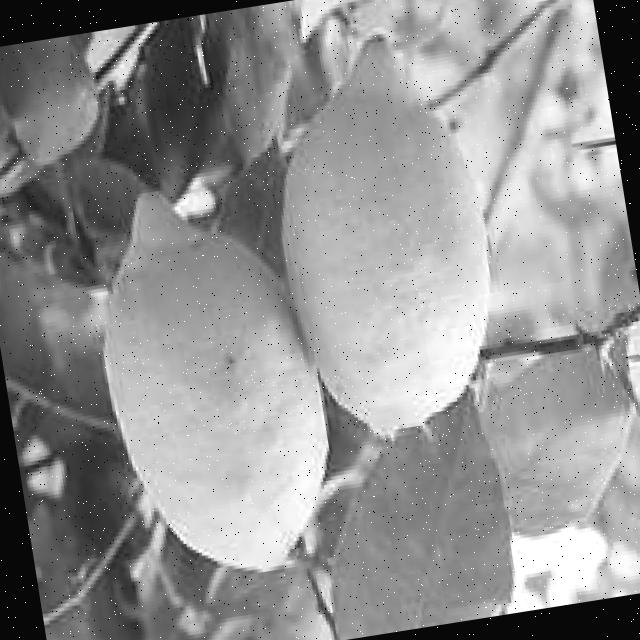Ripe: (77, 168, 345, 598), (252, 23, 516, 450)
